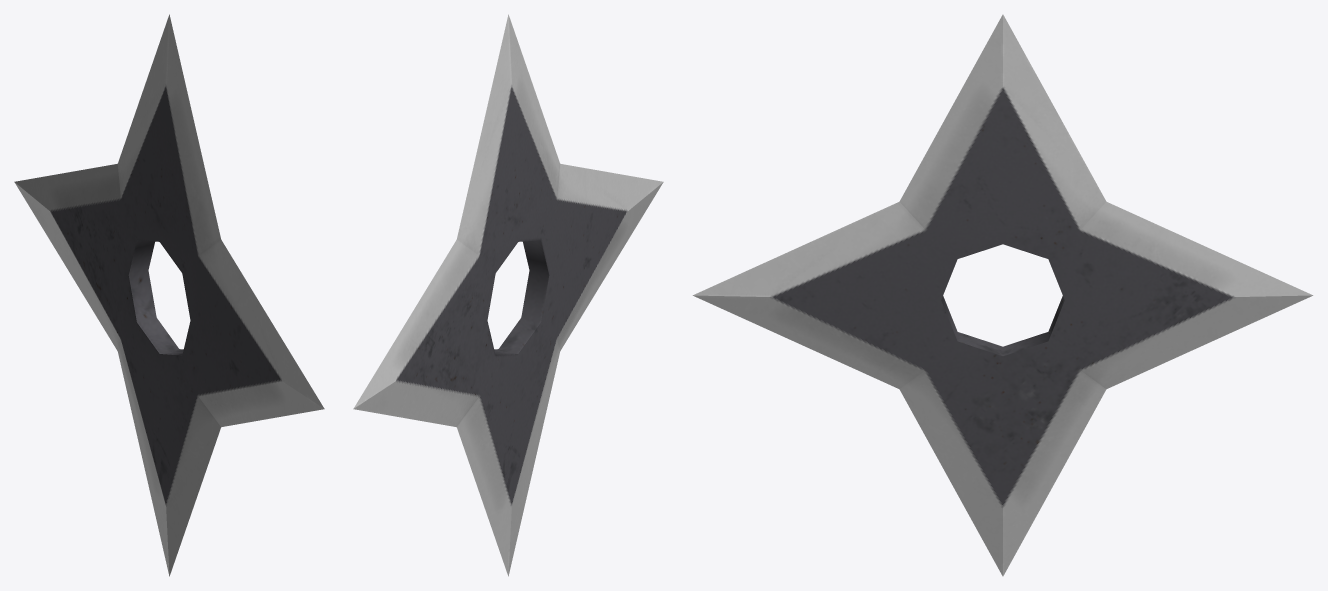
Rendered from SM_Shuriken_Explosion.fbx.
3 renders of one model, left to right at view 1: azimuth 30°, elevation 25°; view 2: azimuth 150°, elevation 25°; view 3: azimuth 270°, elevation 25°, orthographic.
Visible parts, largest first — view 1: Shuriken_Explosion; view 2: Shuriken_Explosion; view 3: Shuriken_Explosion.
Part boxes in pixels (x1,y1,x2,y2): Shuriken_Explosion: [14, 14, 324, 576]; Shuriken_Explosion: [353, 14, 663, 576]; Shuriken_Explosion: [692, 14, 1313, 576].
Size of the model in its own units: 3.77 by 103 by 103.
